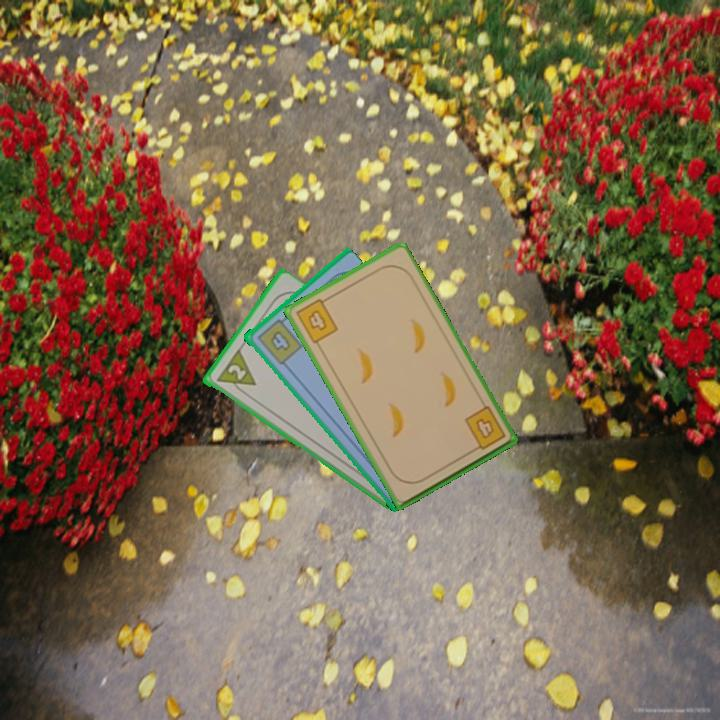2p: (212, 347, 258, 399)
4b: (253, 313, 305, 367), (292, 293, 341, 347), (461, 402, 508, 455)
